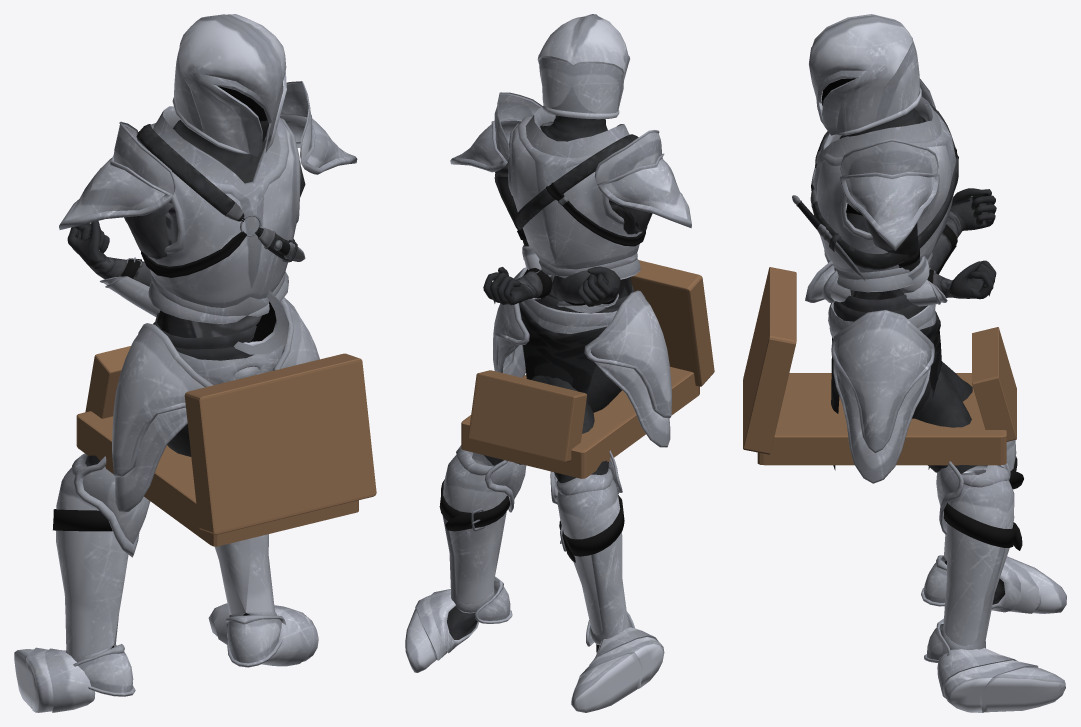
Rendered from rider.glb.
3 renders of one model, left to right at view 1: azimuth 30°, elevation 25°; view 2: azimuth 150°, elevation 25°; view 3: azimuth 270°, elevation 25°, orthographic. The views are drawn at different scales.
Parts seen in each view (by area): view 1: Rider; view 2: Rider; view 3: Rider.
Part boxes in pixels (bbox=[...]): Rider: bbox=[14, 14, 376, 712]; Rider: bbox=[405, 14, 714, 712]; Rider: bbox=[743, 14, 1066, 712].
Bounding box in the file's own units: 0.7536 × 1.78 × 0.8072.
Materials: 3 (1 with a texture image).
